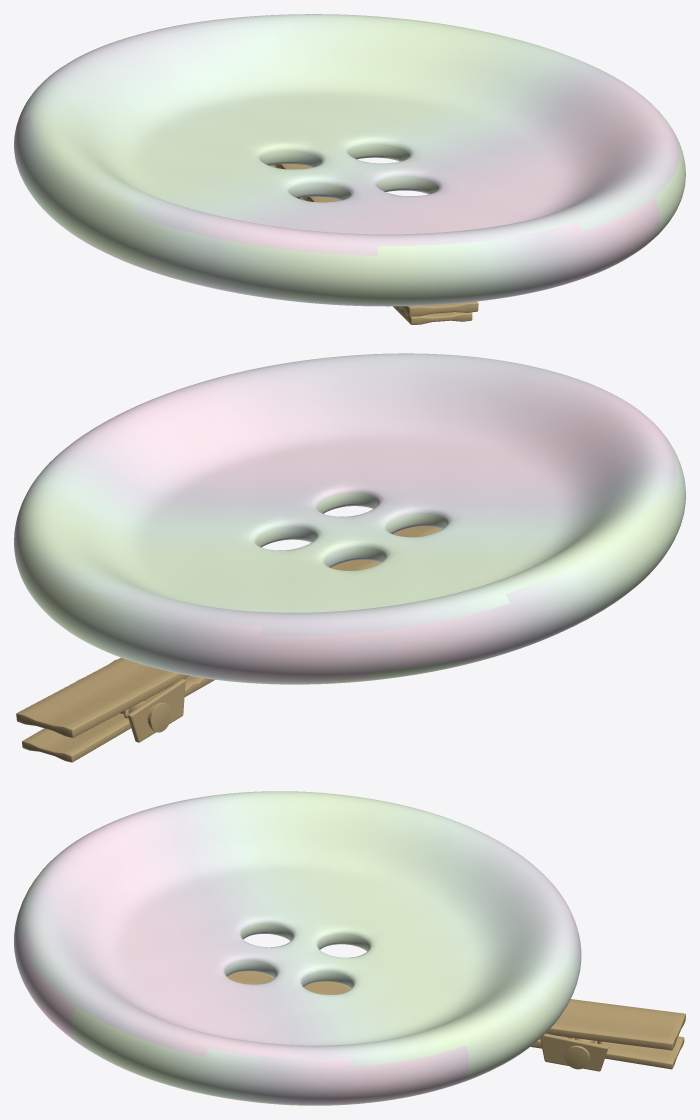
File: HairClip_MotherOfPearl.glb
3 views of the same model, one above another, from view 1: azimuth 30°, elevation 25°; view 2: azimuth 150°, elevation 25°; view 3: azimuth 270°, elevation 25° (orthographic). The views are drawn at different scales.
Parts seen in each view (by area): view 1: HairClip_MotherOfPearl__Pink_Four_Hole_Button, HairClip_MotherOfPearl__Fixed_Serrated_Jaw, HairClip_MotherOfPearl__Moving_Jaw_Static_Pose; view 2: HairClip_MotherOfPearl__Pink_Four_Hole_Button, HairClip_MotherOfPearl__Fixed_Serrated_Jaw, HairClip_MotherOfPearl__Moving_Jaw_Static_Pose, HairClip_MotherOfPearl__Pivot_Cheek_L; view 3: HairClip_MotherOfPearl__Pink_Four_Hole_Button, HairClip_MotherOfPearl__Fixed_Serrated_Jaw, HairClip_MotherOfPearl__Moving_Jaw_Static_Pose, HairClip_MotherOfPearl__Pivot_Cheek_R, HairClip_MotherOfPearl__Pivot_Head_R.
Boxes of the visible parts, x1,y1,x2,y2 form: HairClip_MotherOfPearl__Pink_Four_Hole_Button: [14, 14, 685, 306]; HairClip_MotherOfPearl__Fixed_Serrated_Jaw: [272, 164, 478, 316]; HairClip_MotherOfPearl__Moving_Jaw_Static_Pose: [269, 165, 472, 324]; HairClip_MotherOfPearl__Pink_Four_Hole_Button: [14, 353, 685, 684]; HairClip_MotherOfPearl__Fixed_Serrated_Jaw: [16, 526, 441, 737]; HairClip_MotherOfPearl__Moving_Jaw_Static_Pose: [22, 676, 214, 762]; HairClip_MotherOfPearl__Pivot_Cheek_L: [127, 679, 185, 742]; HairClip_MotherOfPearl__Pink_Four_Hole_Button: [14, 791, 581, 1105]; HairClip_MotherOfPearl__Fixed_Serrated_Jaw: [227, 971, 685, 1050]; HairClip_MotherOfPearl__Moving_Jaw_Static_Pose: [530, 1035, 684, 1069]; HairClip_MotherOfPearl__Pivot_Cheek_R: [540, 1033, 608, 1071]; HairClip_MotherOfPearl__Pivot_Head_R: [564, 1045, 590, 1069].
Bounding box in the file's own units: 39.74 × 10.06 × 47.16.
Materials: 2 (2 with a texture image).
